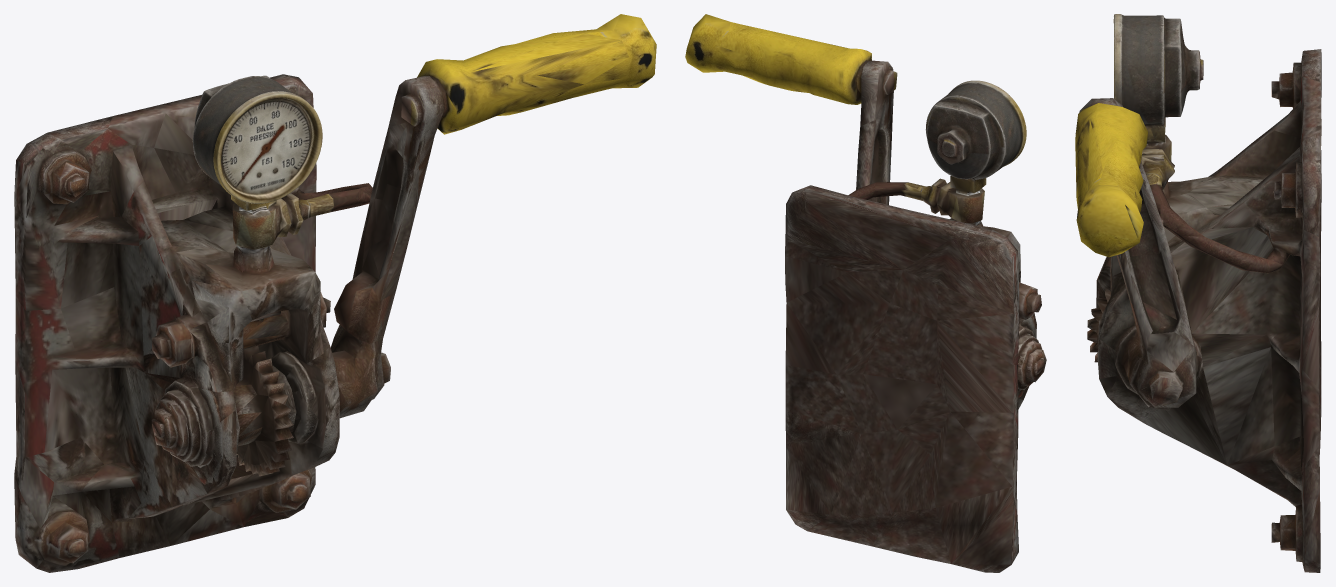
File: ReducedPump.fbx
The picture shows the model from 3 angles, left to right: view 1: azimuth 30°, elevation 25°; view 2: azimuth 150°, elevation 25°; view 3: azimuth 270°, elevation 25°; orthographic projection. The views are drawn at different scales.
Parts seen in each view (by area): view 1: Mesh_0; view 2: Mesh_0; view 3: Mesh_0.
Boxes of the visible parts, x1,y1,x2,y2 form: Mesh_0: [14, 14, 656, 572]; Mesh_0: [685, 14, 1046, 572]; Mesh_0: [1075, 14, 1321, 572].
Bounding box in the file's own units: 1.9 × 1.84 × 0.8283.
Materials: 1 (1 with a texture image).
